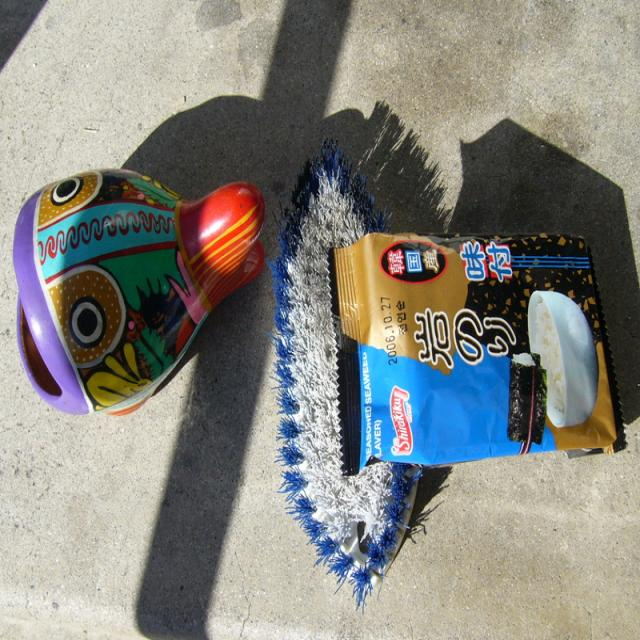packet - bresh: (330, 234, 620, 474)
